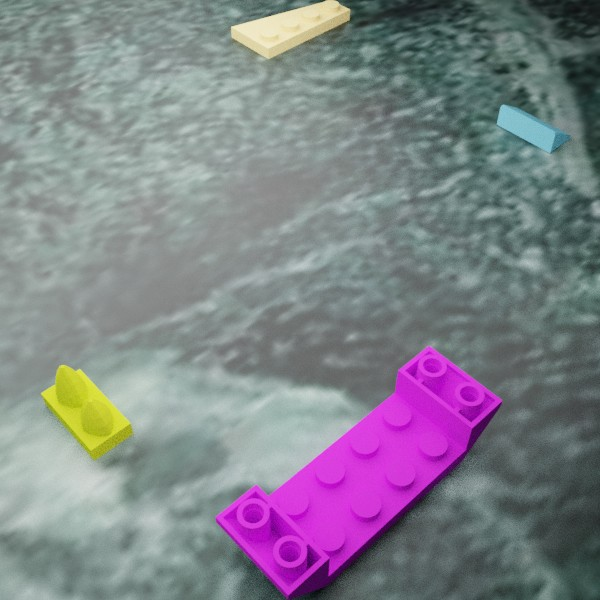lego: (215, 345, 502, 600), (40, 365, 133, 460), (231, 0, 350, 59), (496, 104, 570, 152)
